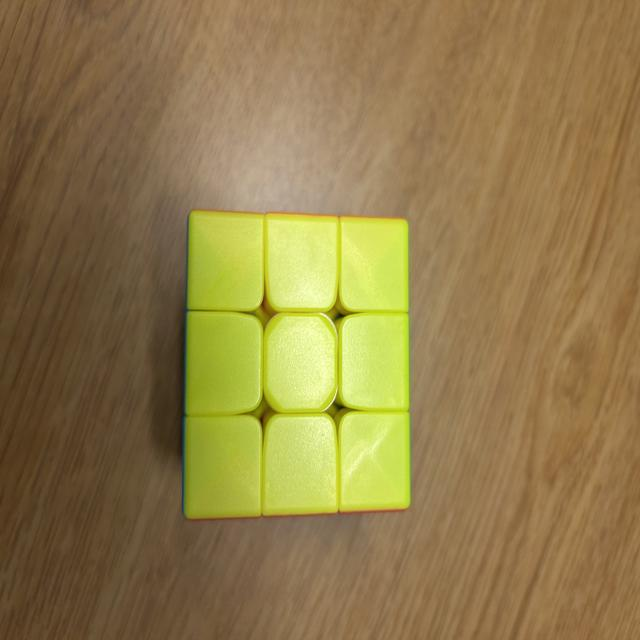Rubiks Cube: (184, 212, 409, 519)
